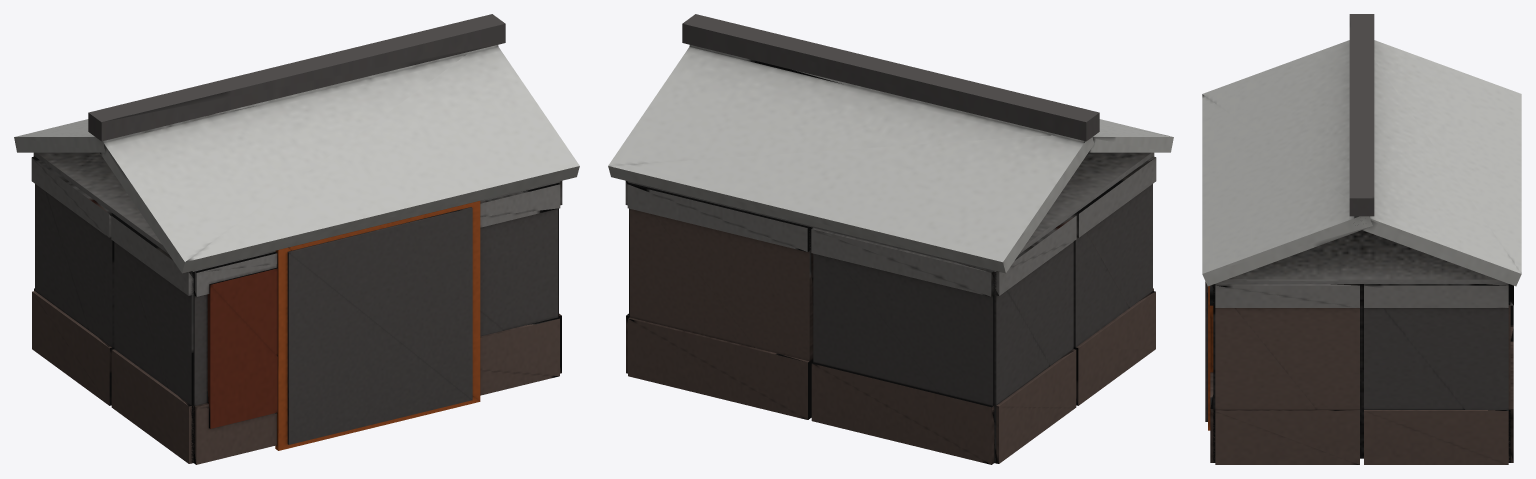
File: B_shed_b.glb
3 renders of one model, left to right at view 1: azimuth 30°, elevation 25°; view 2: azimuth 150°, elevation 25°; view 3: azimuth 270°, elevation 25°, orthographic. The views are drawn at different scales.
Parts seen in each view (by area): view 1: Cube; view 2: Cube; view 3: Cube.
Part boxes in pixels (x1=…): Cube: x1=14, y1=14, x2=579, y2=464; Cube: x1=608, y1=14, x2=1173, y2=464; Cube: x1=1202, y1=14, x2=1521, y2=464.
Size of the model in its own units: 8.8 by 6.2 by 6.45.
1 material, 1 textured.
